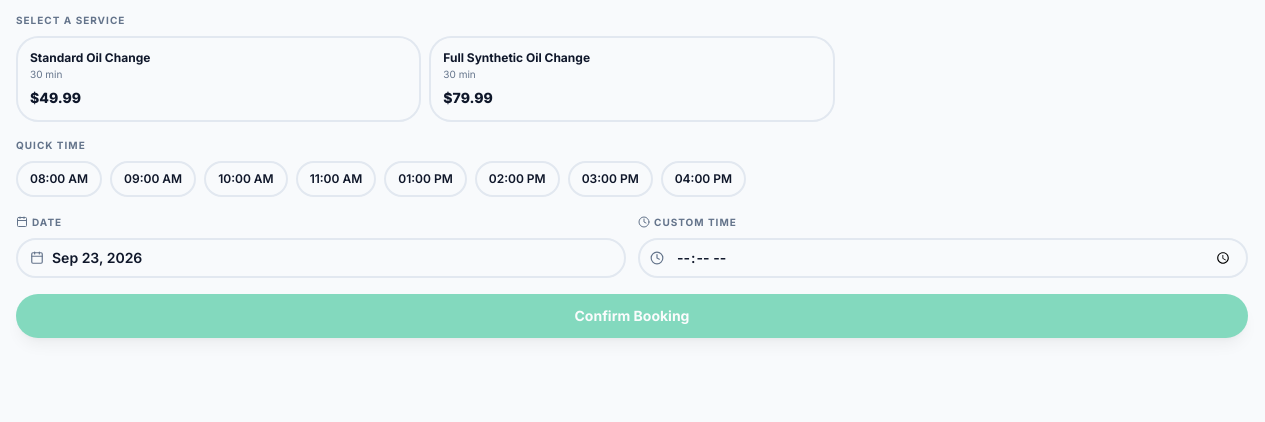
Test: BookingForm Component › renders and allows selecting a service and time
This screenshot has width=1265, height=422.
Note: Select service
Click the text "Standard Oil Change": click(100, 58) [30,50,170,65]
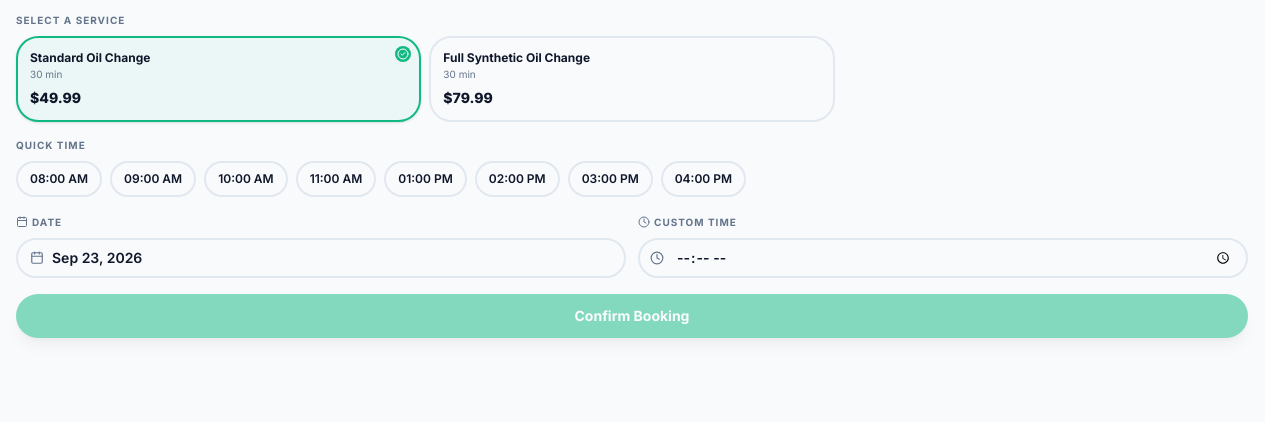
Note: Select quick time
Click the button "08:00 AM": click(59, 179) [16,161,102,197]
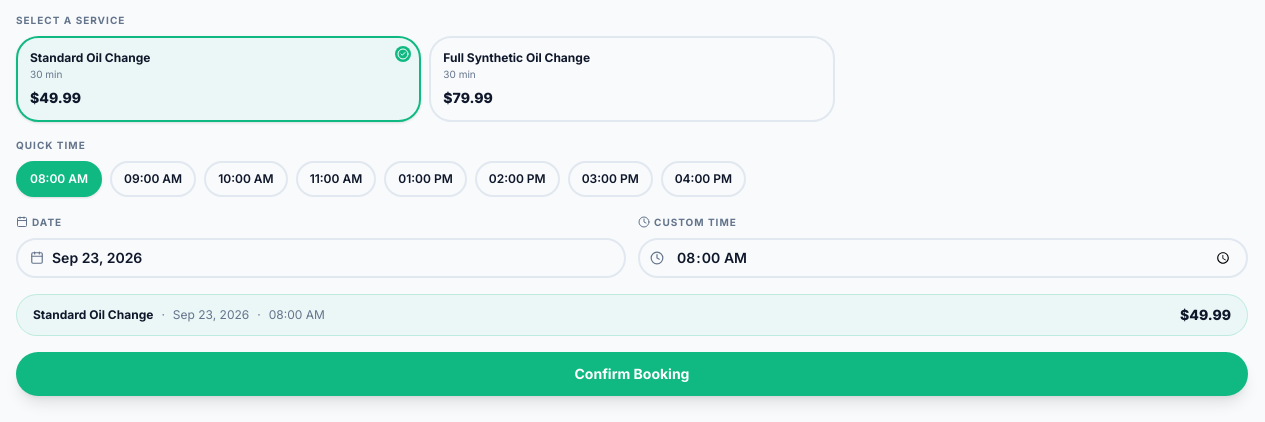
expect the text "$49.99" is shown 2 times: met, box [30,88,81,108]; [1180,305,1231,325]
expect the text "Standard Oil Change" is shown 2 times: met, box [30,50,170,65]; [33,307,153,323]
